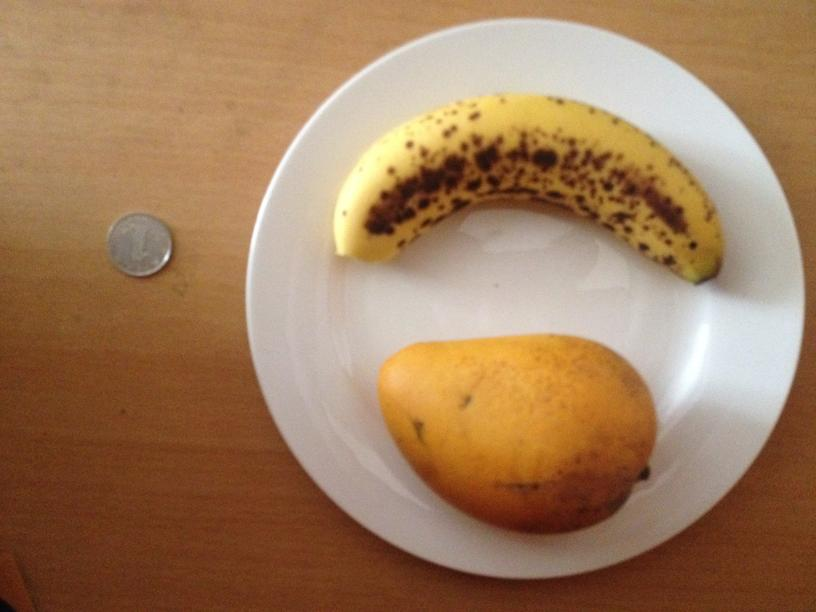banana: (334, 94, 725, 285)
coin: (109, 213, 172, 277)
mango: (380, 338, 655, 533)
